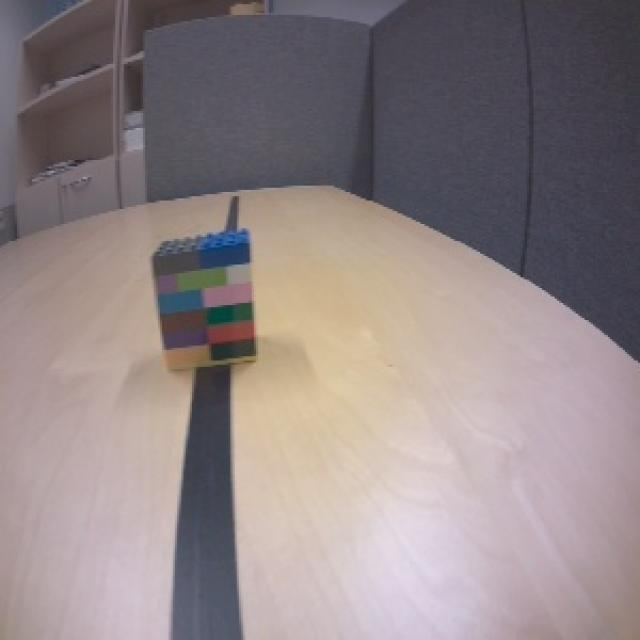obstacle: (147, 225, 262, 374)
